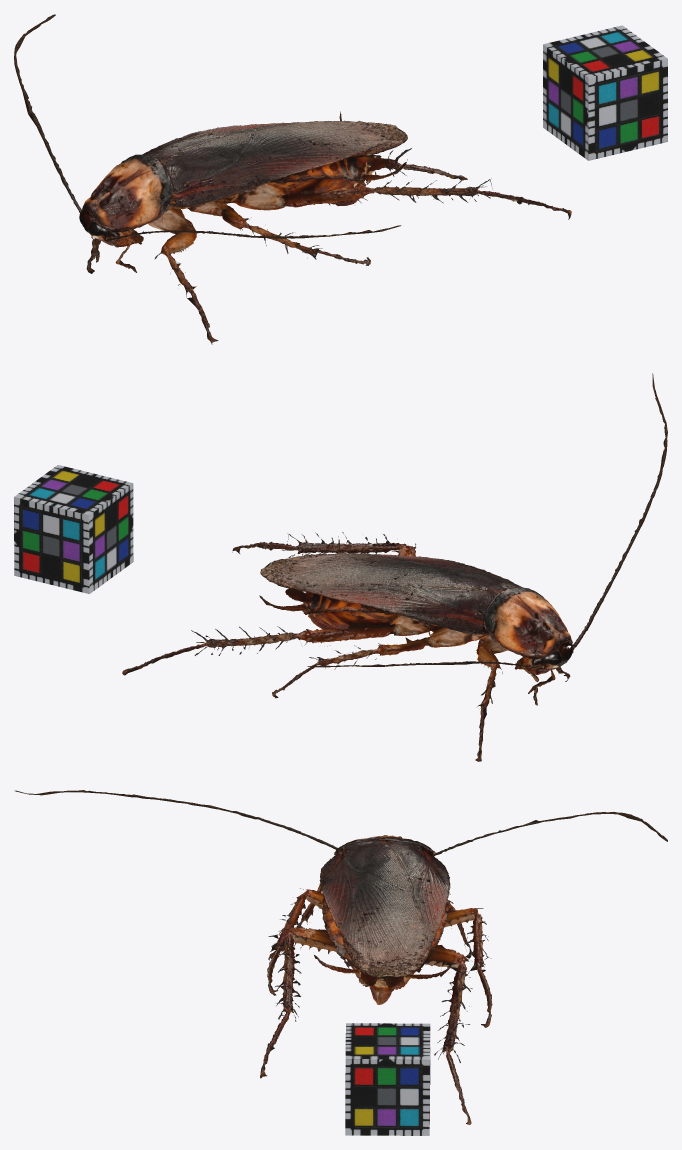
Rendered from barata.glb.
The picture shows the model from 3 angles, top to bottom: view 1: azimuth 30°, elevation 25°; view 2: azimuth 150°, elevation 25°; view 3: azimuth 270°, elevation 25°; orthographic projection. The views are drawn at different scales.
Visible parts, largest first — view 1: ashi_3, Cube_0; view 2: ashi_3, Cube_0; view 3: ashi_3, Cube_0.
Boxes of the visible parts, x1,y1,x2,y2 form: ashi_3: (14,14,571,344); Cube_0: (543,25,667,160); ashi_3: (122,373,667,761); Cube_0: (14,465,133,593); ashi_3: (15,790,667,1124); Cube_0: (345,1023,430,1135).
Bounding box in the file's own units: 5.48 × 1.98 × 6.
3 materials, 3 textured.
